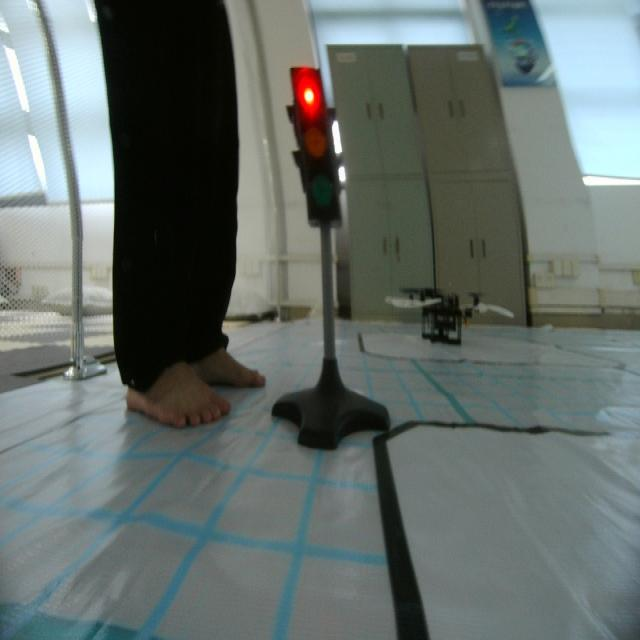red: (282, 60, 347, 241)
